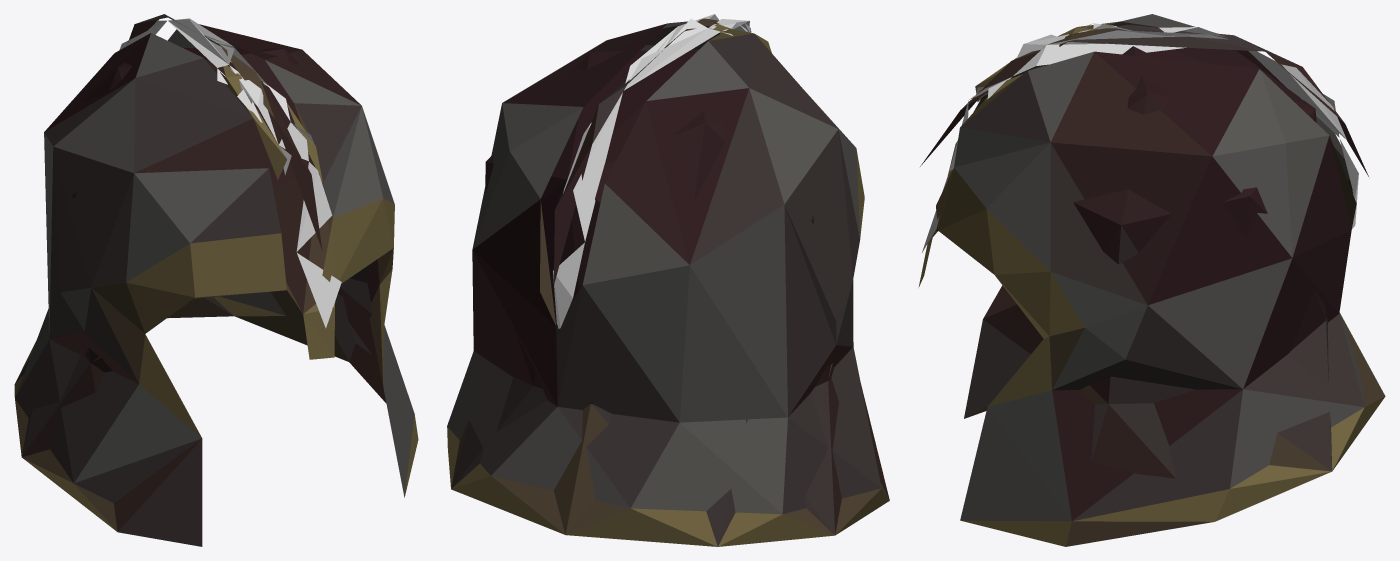
File: aiwpn_helm_lo.glb
The picture shows the model from 3 angles, left to right: view 1: azimuth 30°, elevation 25°; view 2: azimuth 150°, elevation 25°; view 3: azimuth 270°, elevation 25°; orthographic projection. The views are drawn at different scales.
Parts seen in each view (by area): view 1: ca_aiwpn_helm_lo; view 2: ca_aiwpn_helm_lo; view 3: ca_aiwpn_helm_lo.
Boxes of the visible parts, <box> form: ca_aiwpn_helm_lo: <box>14,14,418,546</box>; ca_aiwpn_helm_lo: <box>447,14,889,546</box>; ca_aiwpn_helm_lo: <box>918,14,1385,546</box>.
Bounding box in the file's own units: 0.3478 × 0.4165 × 0.3954.
